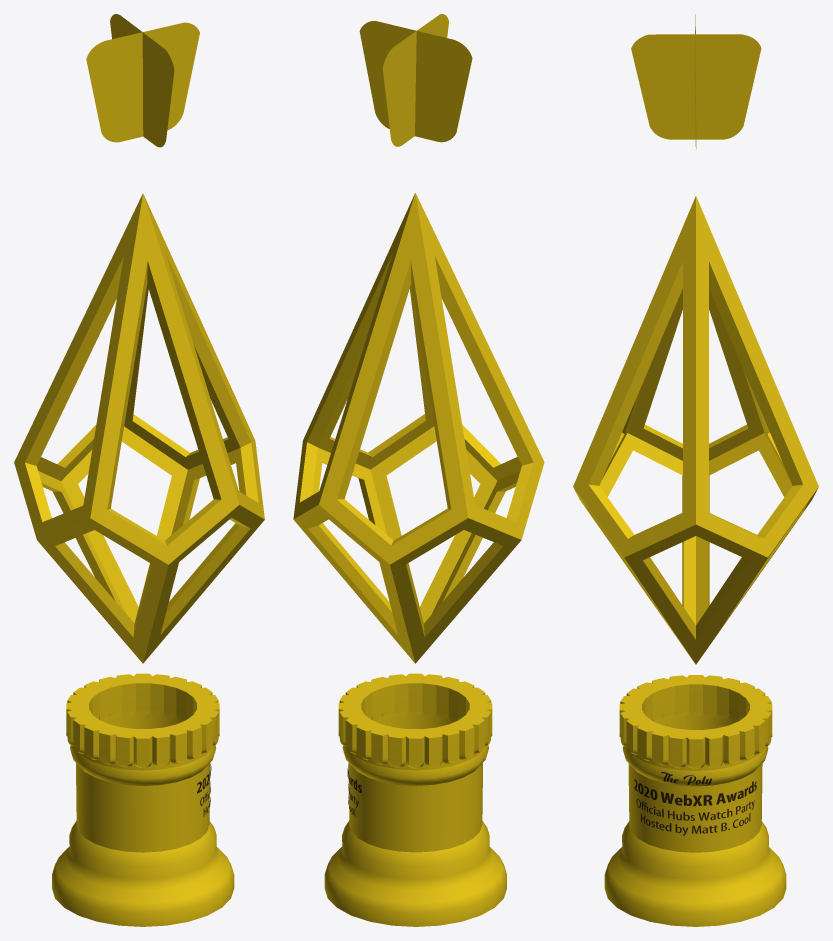
File: HubsWatchParty.glb
3 views of the same model, side by side, from view 1: azimuth 30°, elevation 25°; view 2: azimuth 150°, elevation 25°; view 3: azimuth 270°, elevation 25° (orthographic).
Visible parts, largest first — view 1: Diamond, Base, Crown; view 2: Diamond, Base, Crown; view 3: Diamond, Base, Crown, Engravings.
Part boxes in pixels (x1,y1,x2,y2): Diamond: [14, 193, 264, 663]; Base: [52, 673, 234, 926]; Crown: [86, 14, 199, 147]; Diamond: [293, 193, 544, 663]; Base: [324, 673, 506, 926]; Crown: [359, 14, 472, 146]; Diamond: [573, 196, 818, 664]; Base: [604, 675, 786, 926]; Crown: [631, 14, 761, 148]; Engravings: [634, 771, 756, 835].
Size of the model in its own units: 0.6616 by 2.48 by 0.6471.
3 materials, 2 textured.
